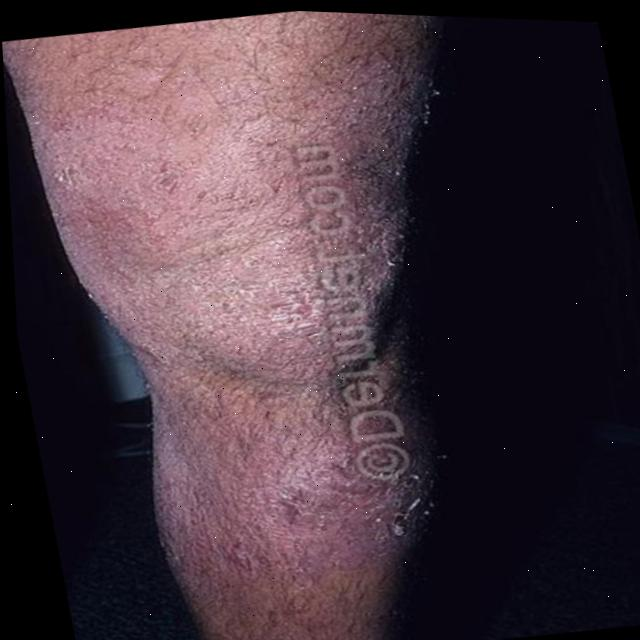Eczema: (46, 3, 412, 640)
